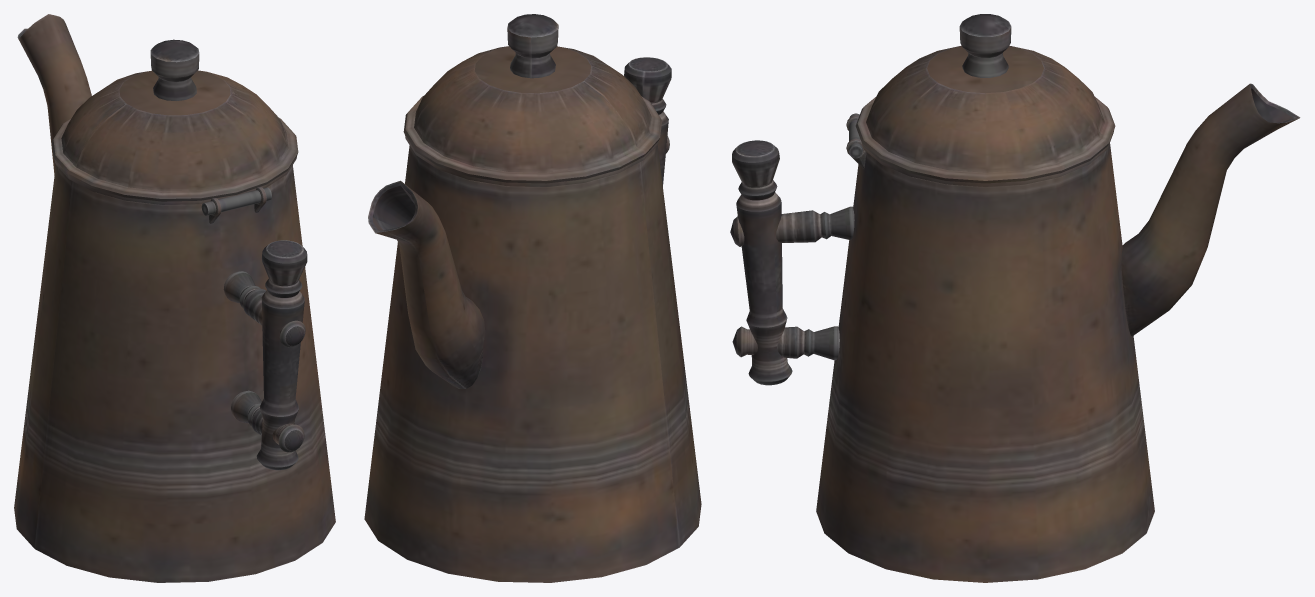
The model's file is coffee-grinder-box.glb.
The picture shows the model from 3 angles, left to right: view 1: azimuth 30°, elevation 25°; view 2: azimuth 150°, elevation 25°; view 3: azimuth 270°, elevation 25°; orthographic projection. The views are drawn at different scales.
Visible parts, largest first — view 1: coffee-grinder-box; view 2: coffee-grinder-box; view 3: coffee-grinder-box.
Boxes of the visible parts, box(x1,y1,x2,y2) form: coffee-grinder-box: box(14, 14, 335, 582); coffee-grinder-box: box(364, 14, 701, 582); coffee-grinder-box: box(730, 14, 1300, 582).
Bounding box in the file's own units: 0.2428 × 0.3909 × 0.4088.
Materials: 1 (1 with a texture image).
